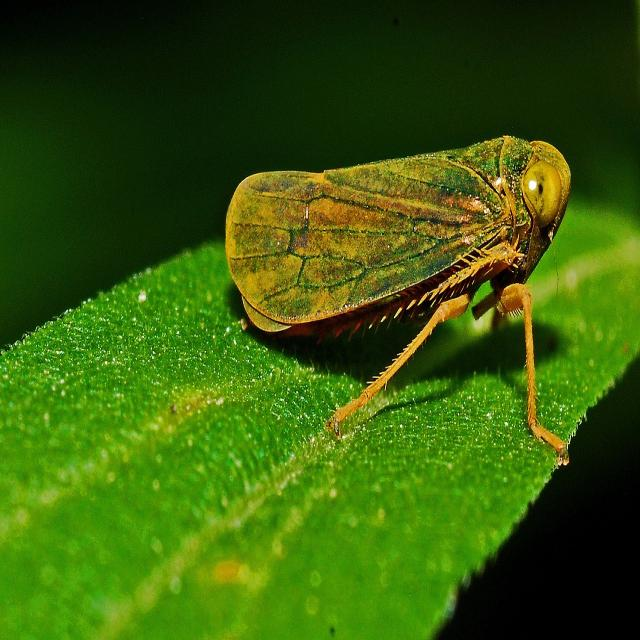wereng pada daun padi: (223, 130, 575, 467)
